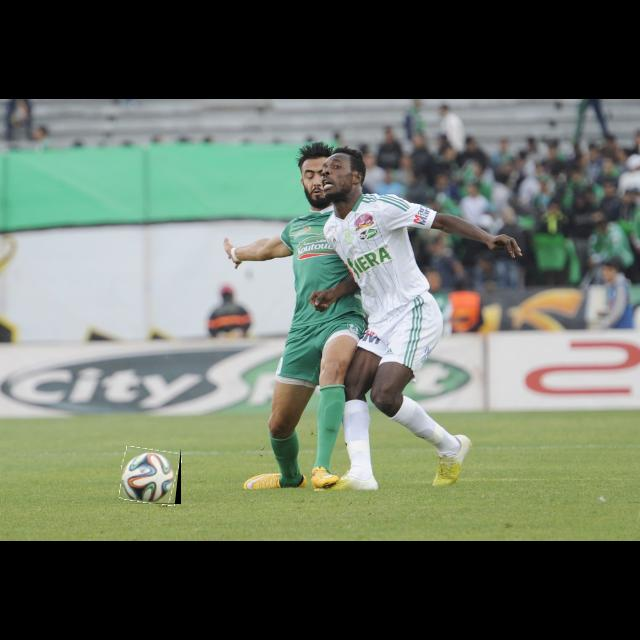Football: (121, 448, 181, 504)
